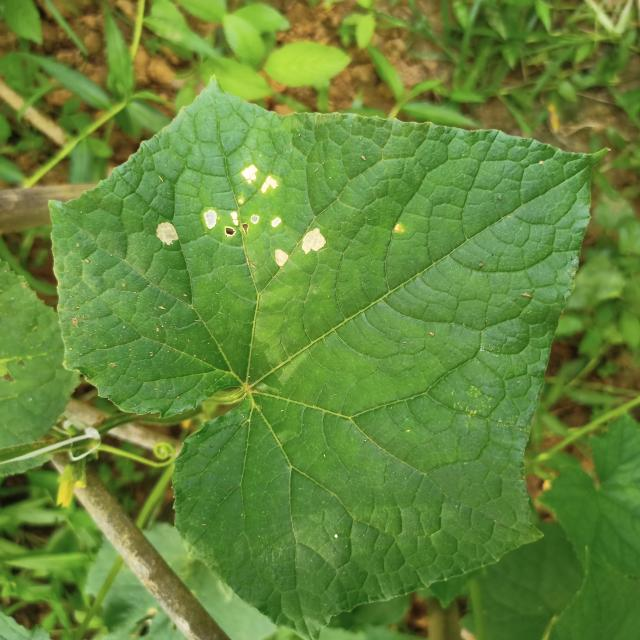disease_cucumber: (160, 165, 326, 273)
